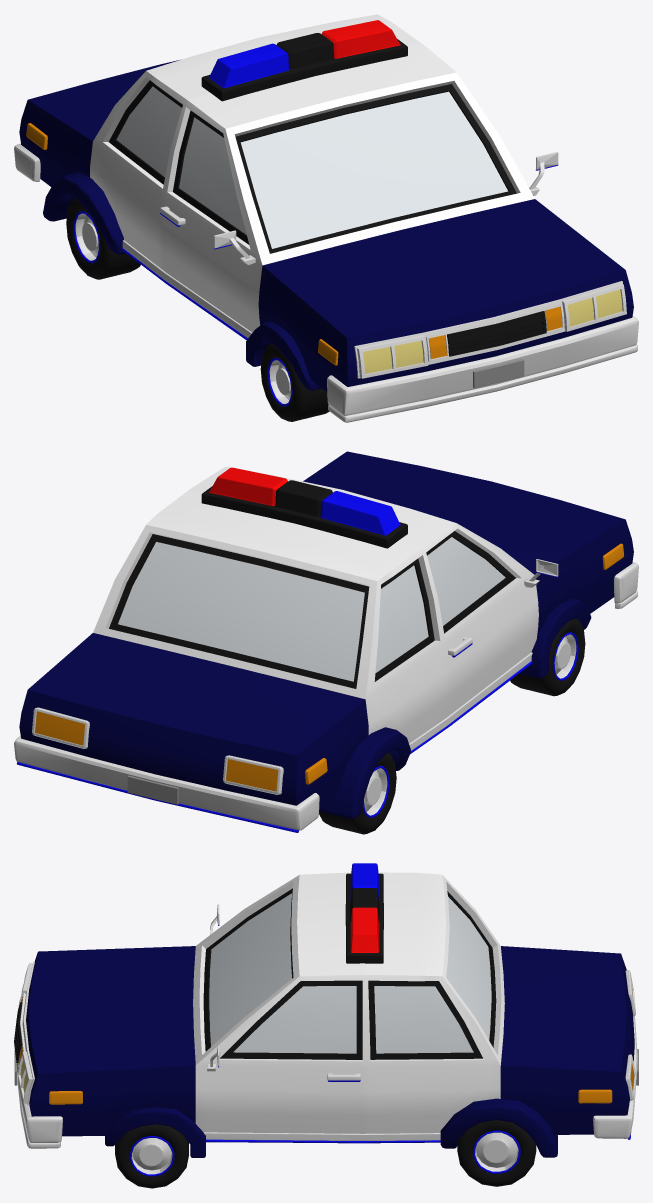
Rendered from police.fbx.
3 renders of one model, top to bottom at view 1: azimuth 30°, elevation 25°; view 2: azimuth 150°, elevation 25°; view 3: azimuth 270°, elevation 25°, orthographic. The views are drawn at different scales.
Visible parts, largest first — view 1: separated_72, separated_84, separated_81; view 2: separated_72, separated_84, separated_81; view 3: separated_72, separated_55, separated_57.
Boxes of the visible parts, <box> form: separated_72: <box>14,14,638,422</box>; separated_84: <box>260,343,329,421</box>; separated_81: <box>66,198,140,279</box>; separated_72: <box>14,451,638,832</box>; separated_84: <box>510,618,585,696</box>; separated_81: <box>319,752,396,834</box>; separated_72: <box>14,863,638,1157</box>; separated_55: <box>457,1120,536,1186</box>; separated_57: <box>115,1124,188,1188</box>.
Bounding box in the file's own units: 7.22 × 5.13 × 12.59.
